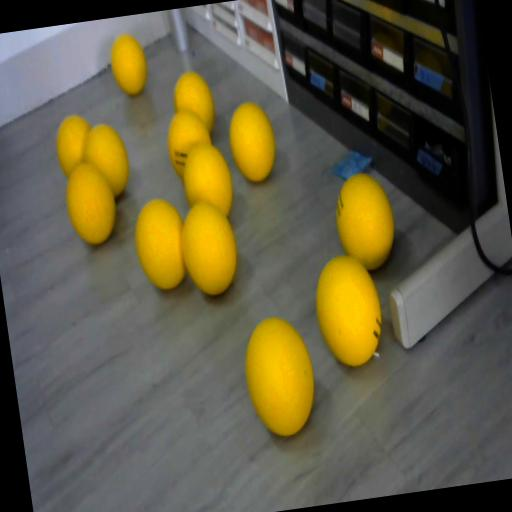FUEL: (238, 311, 322, 439), (308, 250, 388, 369), (330, 170, 401, 274), (174, 196, 244, 300), (130, 195, 192, 293), (61, 160, 121, 248), (224, 99, 280, 184), (170, 68, 218, 137), (52, 112, 98, 179), (107, 31, 150, 98)
